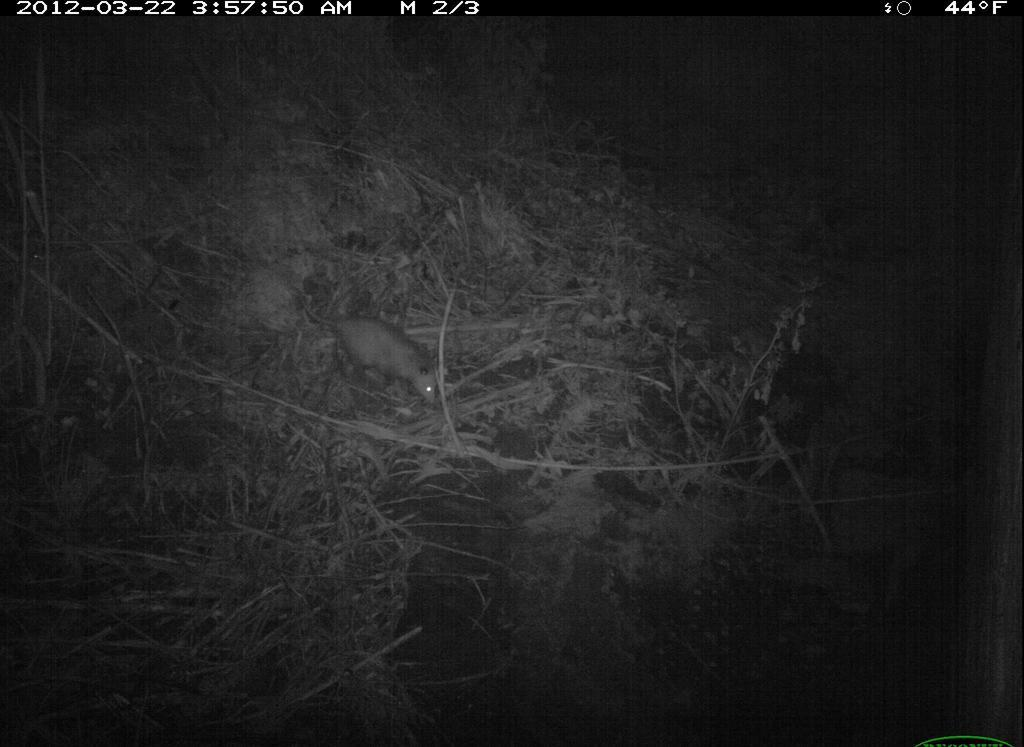opossum: (278, 273, 445, 413)
